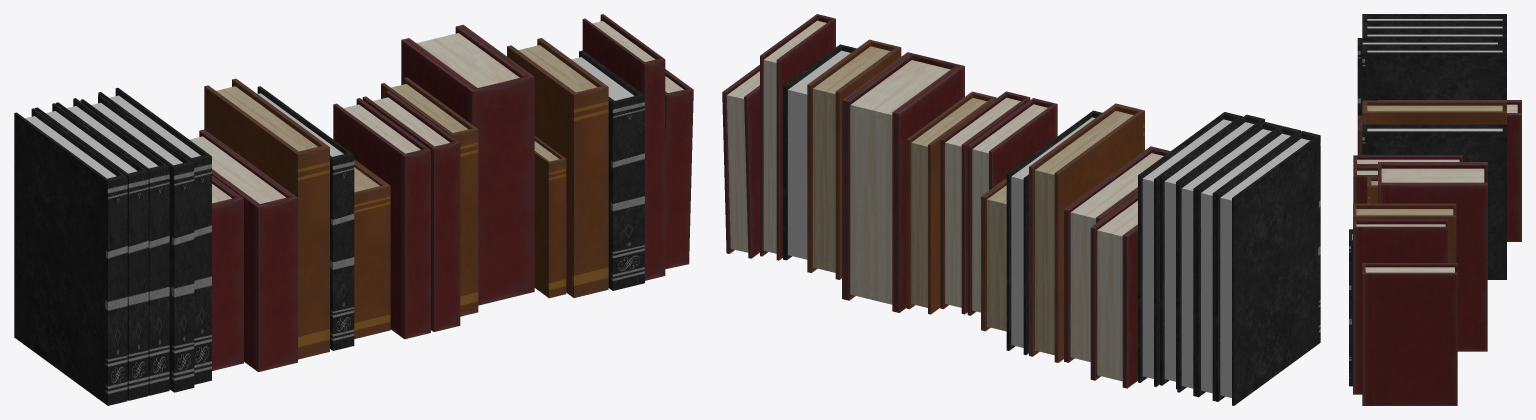
Rendered from BookShelf_ShelfRow_04.fbx.
3 renders of one model, left to right at view 1: azimuth 30°, elevation 25°; view 2: azimuth 150°, elevation 25°; view 3: azimuth 270°, elevation 25°, orthographic. The views are drawn at different scales.
Visible parts, largest first — view 1: polySurface272; view 2: polySurface272; view 3: polySurface272.
Part boxes in pixels (x1=…): polySurface272: x1=14, y1=14, x2=693, y2=405; polySurface272: x1=722, y1=14, x2=1320, y2=405; polySurface272: x1=1349, y1=14, x2=1521, y2=405.
Size of the model in its own units: 3.09 by 1.13 by 1.02.
